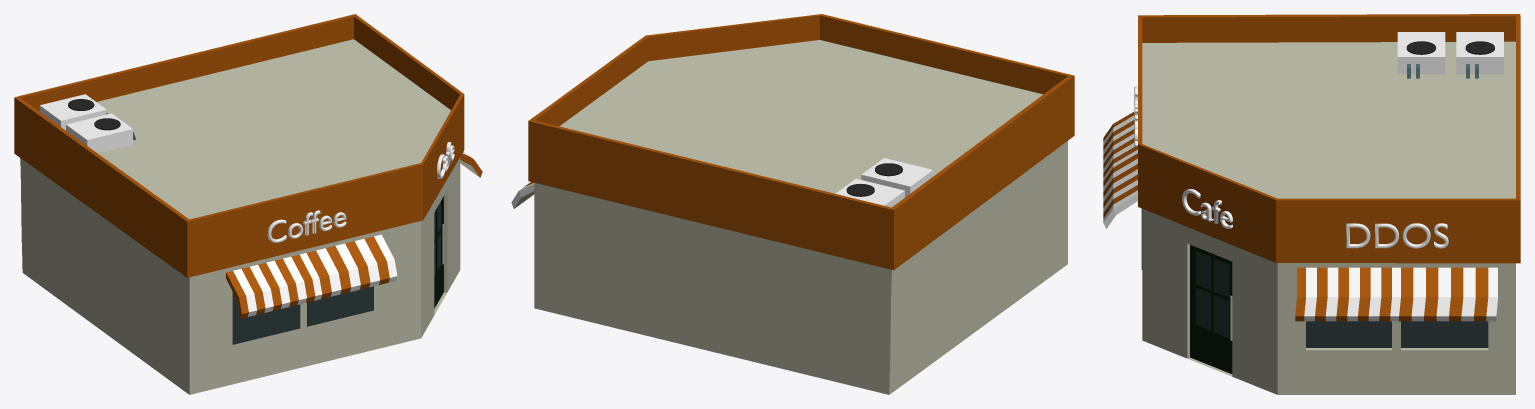
Rendered from Cafe.fbx.
The picture shows the model from 3 angles, left to right: view 1: azimuth 30°, elevation 25°; view 2: azimuth 150°, elevation 25°; view 3: azimuth 270°, elevation 25°; orthographic projection. The views are drawn at different scales.
Visible parts, largest first — view 1: Plane.003, Cube.008, Cube.001, Text.004; view 2: Plane.003, Cube.008, Cube.001; view 3: Plane.003, Cube.008, Cube.001, Text.003, Text.005.
Boxes of the visible parts, x1,y1,x2,y2 form: Plane.003: (14, 14, 482, 394); Cube.008: (66, 113, 135, 153); Cube.001: (39, 94, 107, 130); Text.004: (267, 210, 346, 242); Plane.003: (511, 14, 1074, 394); Cube.008: (861, 158, 933, 197); Cube.001: (835, 178, 904, 207); Plane.003: (1103, 14, 1520, 394); Cube.008: (1397, 32, 1445, 78); Cube.001: (1456, 32, 1503, 78); Text.003: (1346, 223, 1448, 248); Text.005: (1182, 189, 1232, 228).
Size of the model in its own units: 637 by 290 by 559.
